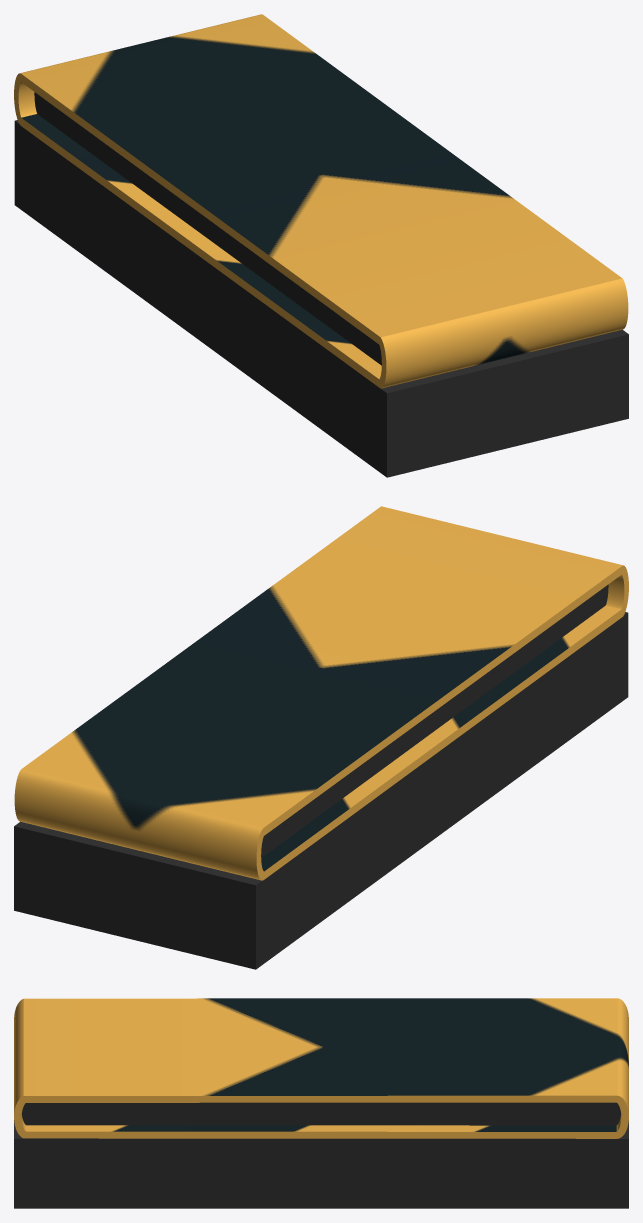
File: conveyor.glb
3 renders of one model, top to bottom at view 1: azimuth 30°, elevation 25°; view 2: azimuth 150°, elevation 25°; view 3: azimuth 270°, elevation 25°, orthographic. The views are drawn at different scales.
Parts seen in each view (by area): view 1: Cylinder, MeshInstance3D2.001; view 2: Cylinder, MeshInstance3D2.001; view 3: Cylinder, MeshInstance3D2.001.
Boxes of the visible parts, x1=… form: Cylinder: x1=14, y1=14, x2=628, y2=388; MeshInstance3D2.001: x1=14, y1=120, x2=628, y2=477; Cylinder: x1=14, y1=506, x2=628, y2=880; MeshInstance3D2.001: x1=14, y1=612, x2=628, y2=969; Cylinder: x1=14, y1=998, x2=628, y2=1138; MeshInstance3D2.001: x1=14, y1=1120, x2=628, y2=1208.
Bounding box in the file's own units: 1.5 × 0.8101 × 4.
Materials: 3 (1 with a texture image).
